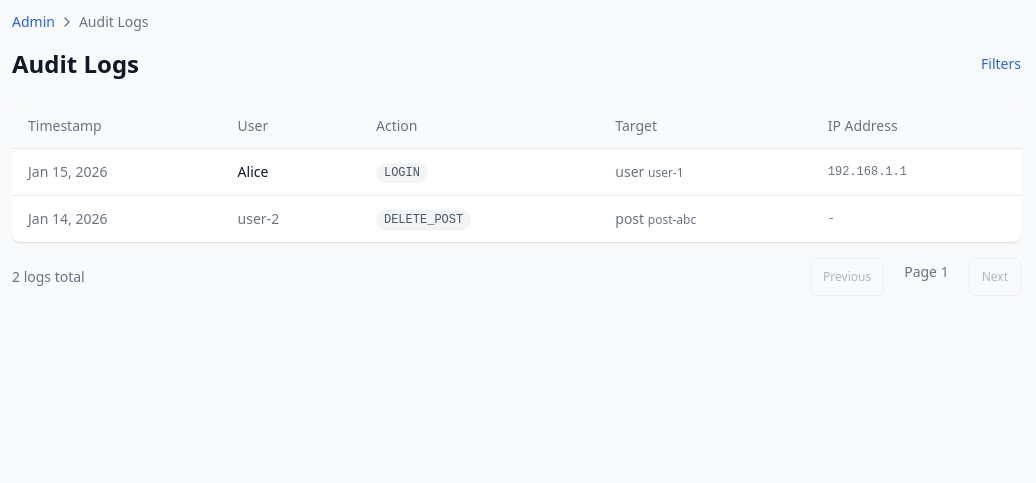
Scenario: AuditLogsView › shows visible date range error message text when from > to
The image size is (1036, 483).
# Open filters
Click the button "Filters" at point(1001, 64), box [981,54,1021,74]
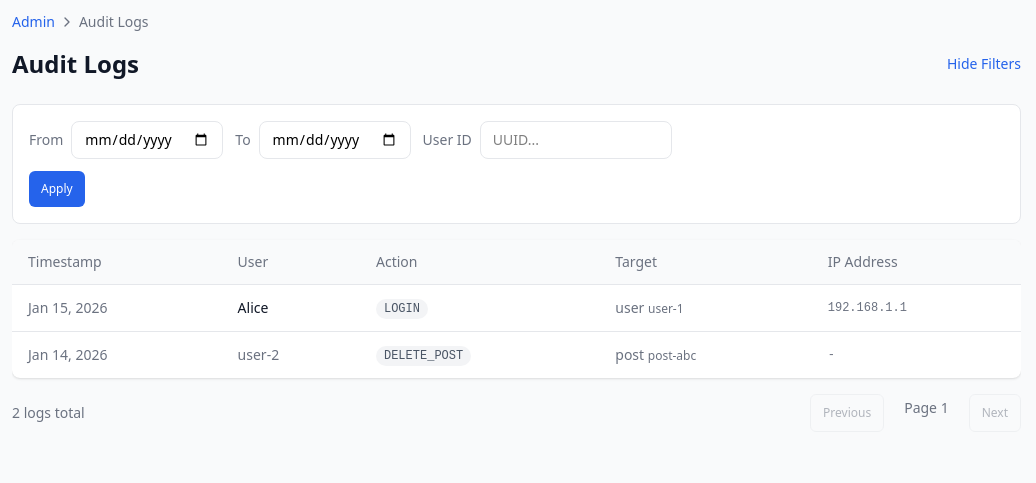
# Set invalid date range
Type "2026-02-01" into the date field labelled "From" at point(147, 140), box [71,121,223,159]
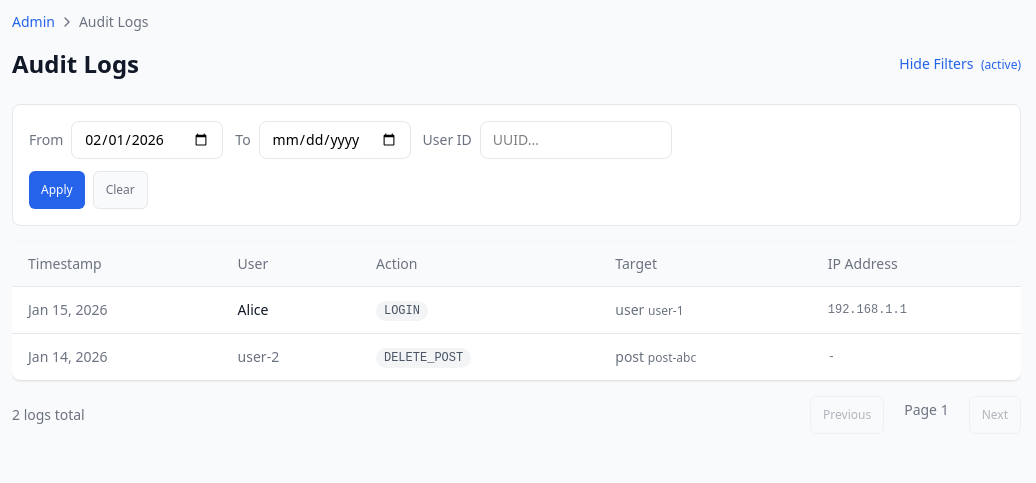
Type "2026-01-01" into the date field labelled "To" at point(335, 140), box [259,121,411,159]
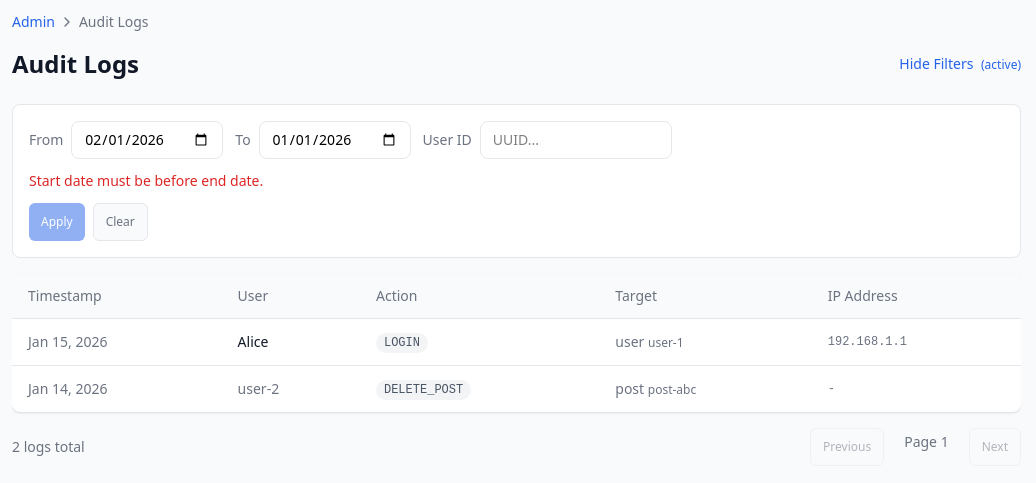
Check: the text "Start date must be before end date." is shown, box [29,171,263,190]
